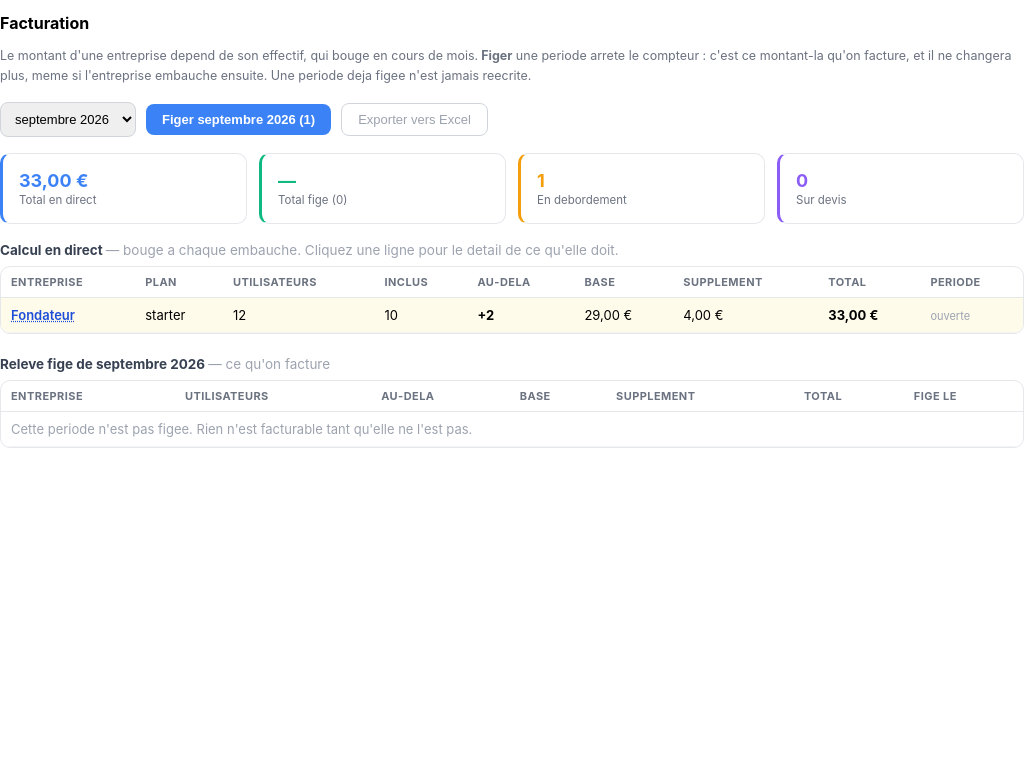
le bouton Figer › confirmer appelle la base avec la periode affichee
What coordinates should you click on to do the following:
click the button "Figer septembre 2026 (1)"
I would click on:
 (239, 119)
Its box is [146, 104, 331, 135].
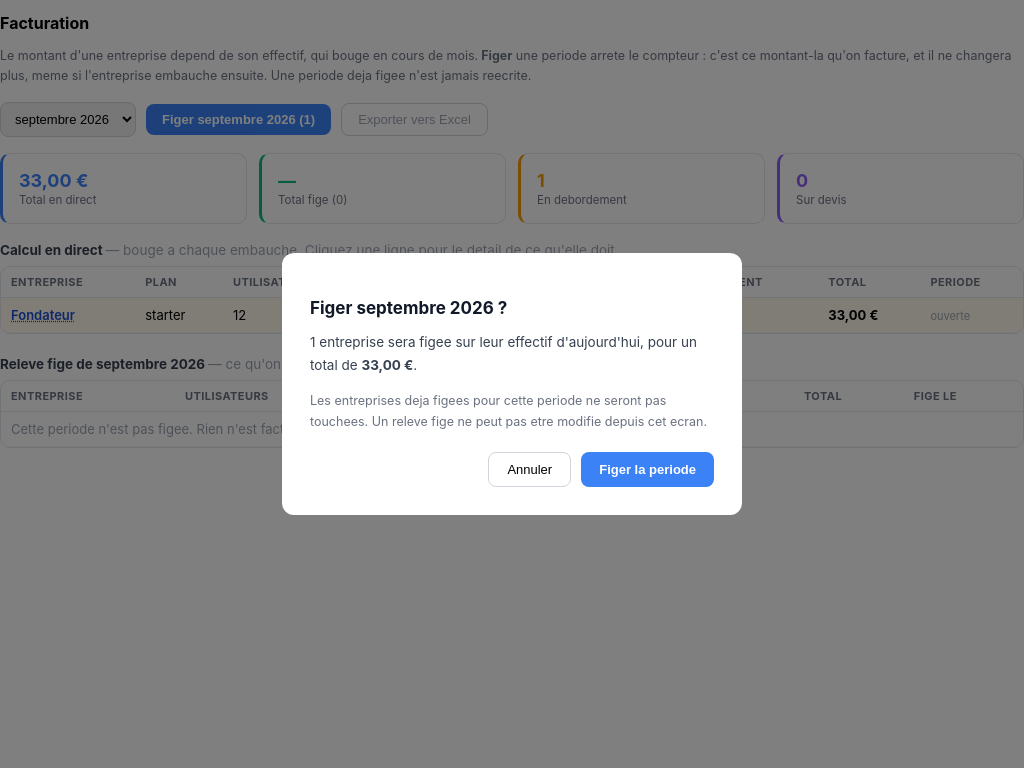
What coordinates should you click on to do the following:
click the button "Figer la periode"
I would click on:
 (648, 470)
Its box is [581, 452, 714, 487].
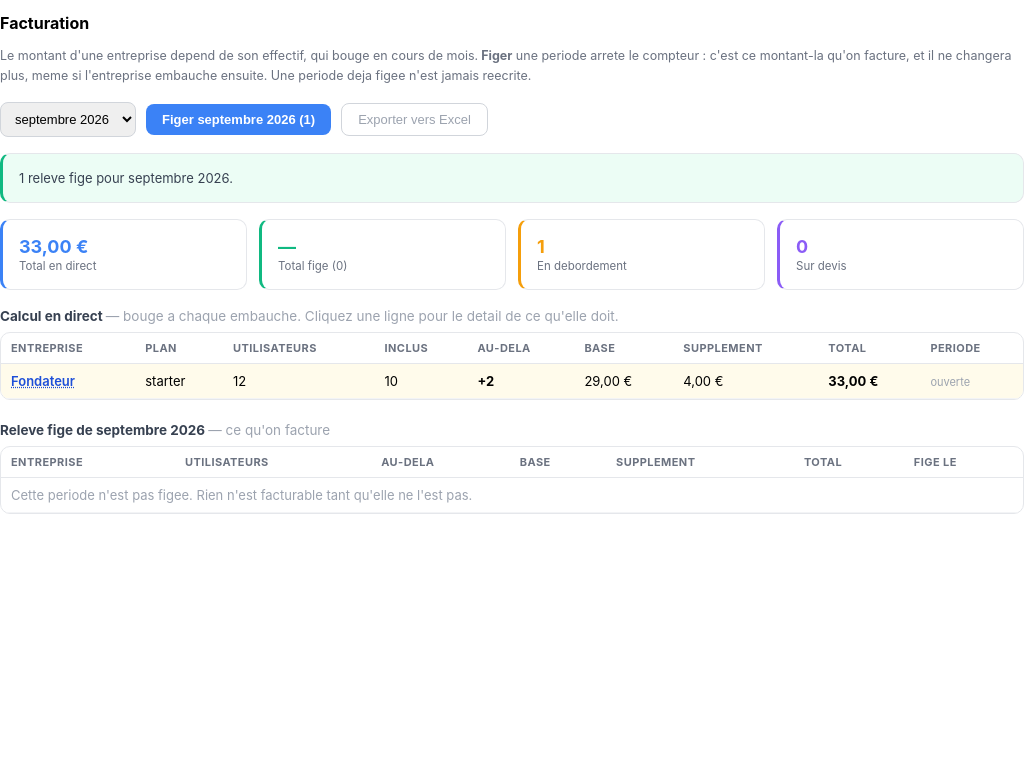
Expected: the text "1 releve fige" is shown, [19, 170, 233, 186]
